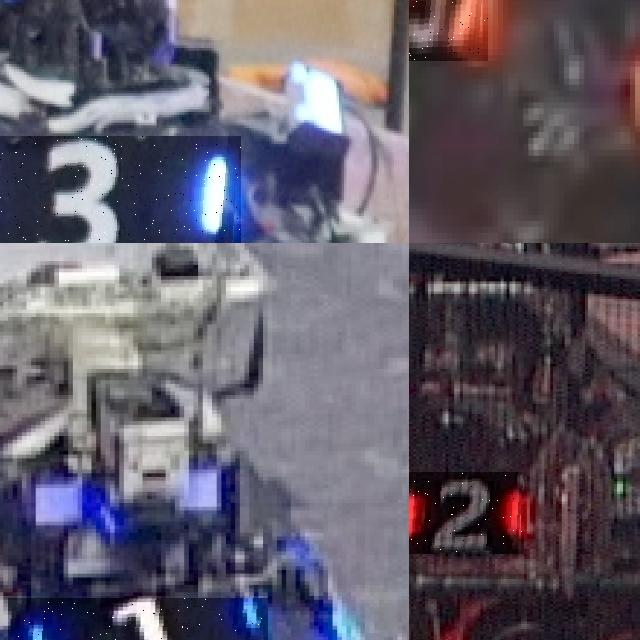B1: (8, 598, 267, 640)
B3: (0, 136, 241, 243)
R2: (409, 471, 524, 554)
R5: (409, 0, 487, 61)
